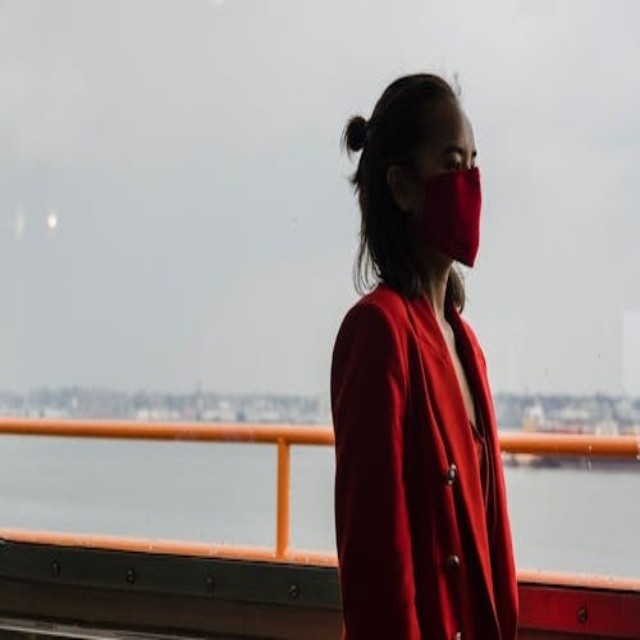Mascara: (408, 166, 481, 268)
Sin_gafas: (422, 136, 481, 171)
